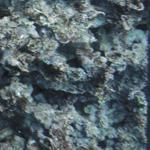dead: (1, 5, 147, 145)
